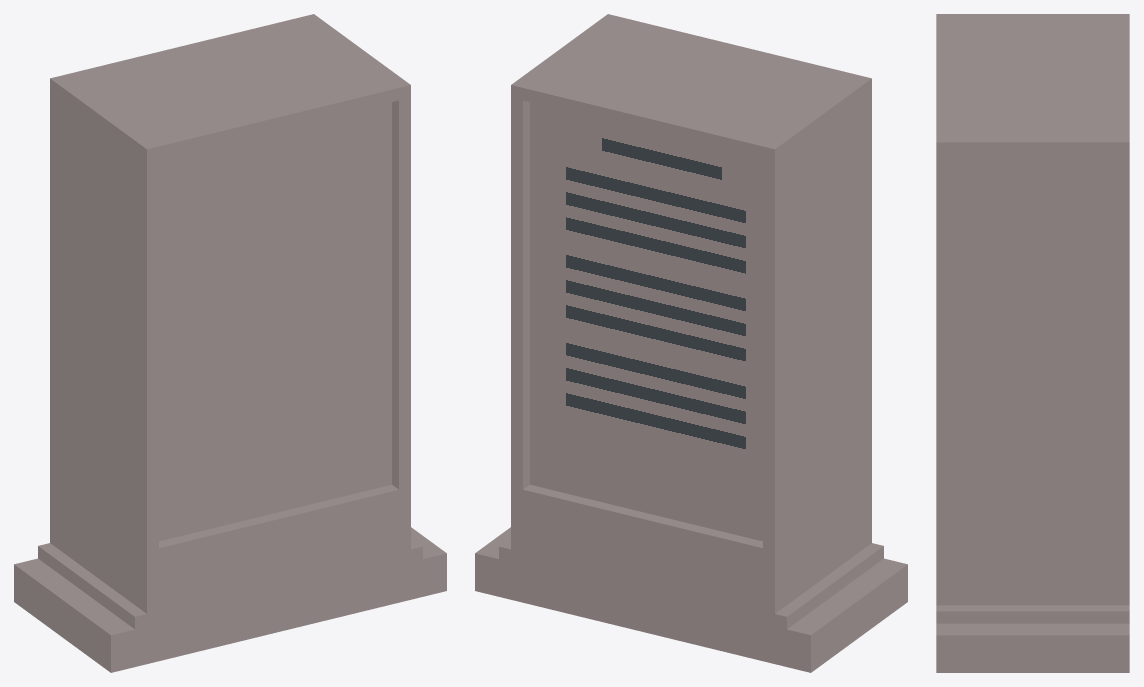
3 views of the same model, side by side, from view 1: azimuth 30°, elevation 25°; view 2: azimuth 150°, elevation 25°; view 3: azimuth 270°, elevation 25° (orthographic).
Visible parts, largest first — view 1: Object; view 2: Object; view 3: Object.
Part boxes in pixels (bbox=[...]): Object: bbox=[14, 14, 446, 672]; Object: bbox=[475, 14, 907, 672]; Object: bbox=[936, 14, 1129, 672].
Size of the model in its own units: 28 by 41 by 14.
1 material, 1 textured.
